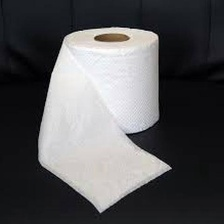tissue: (32, 22, 177, 216)
